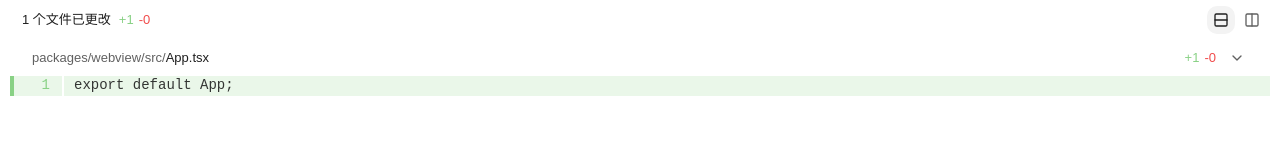
Test: App bootstrap › preserves collapsed files by stable path when hot update file ids shift
Click the button named "Toggle file diff". click: (1237,58)
box: [1226,47,1248,69]
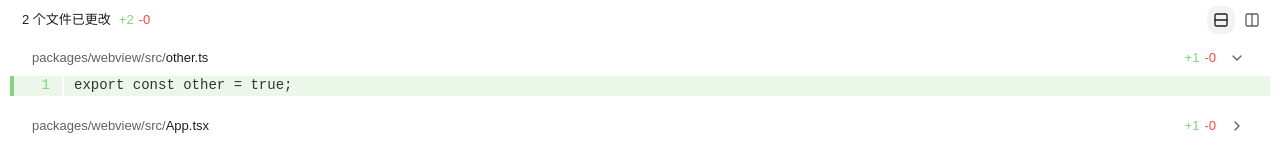
expect the text "2 个文件已更改" is shown: met, box [22,11,111,29]
expect the text "export default App;" is gone: met
expect the text "export const other = true;" is shown: met, box [74,77,292,93]
